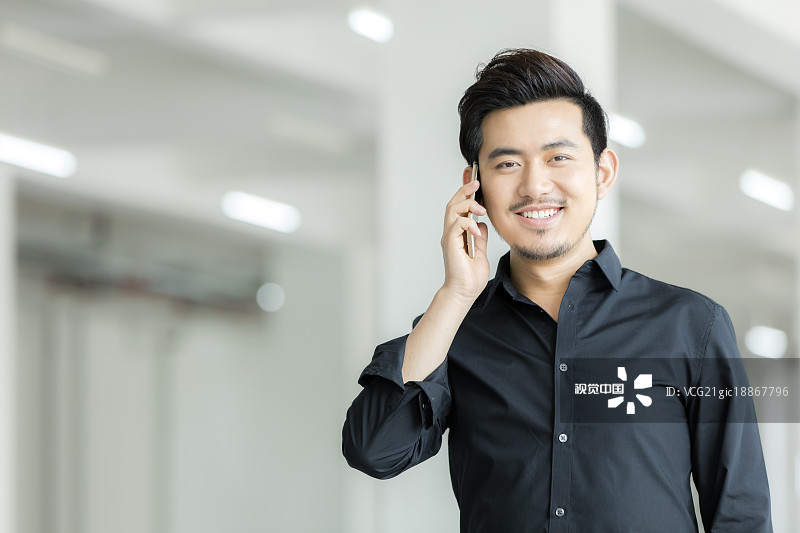calling: (429, 141, 507, 319)
